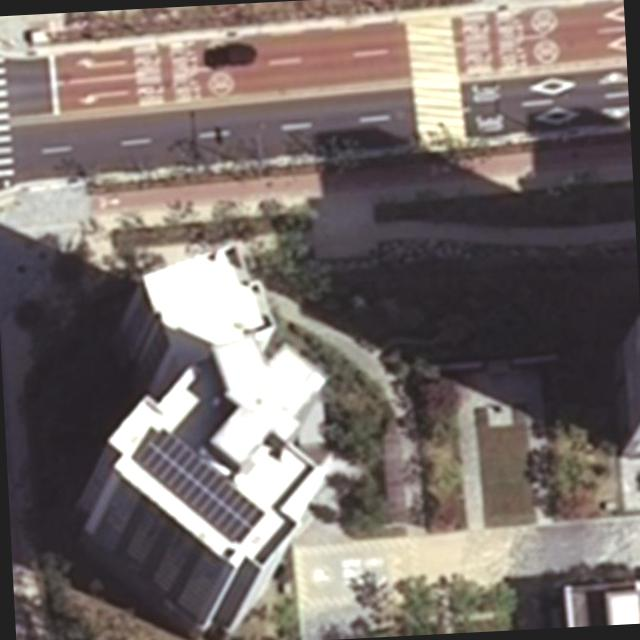solar: (133, 421, 270, 552)
